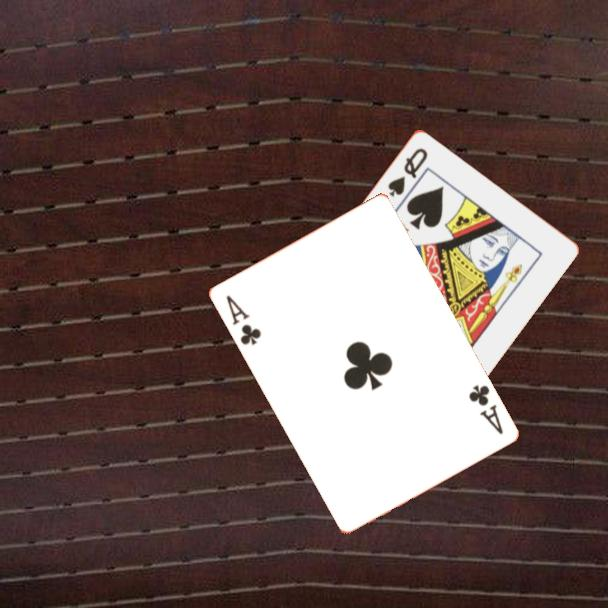c01: (222, 291, 264, 348), (465, 381, 506, 437)
s12: (384, 144, 431, 199)
